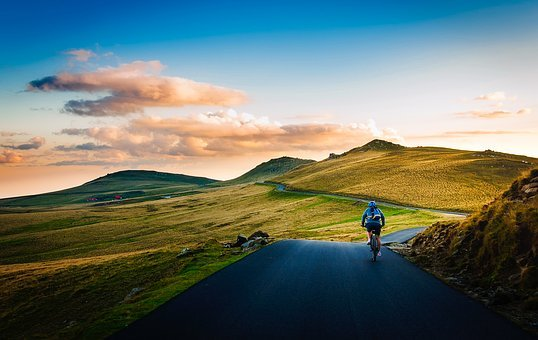commuter: (357, 198, 390, 266)
